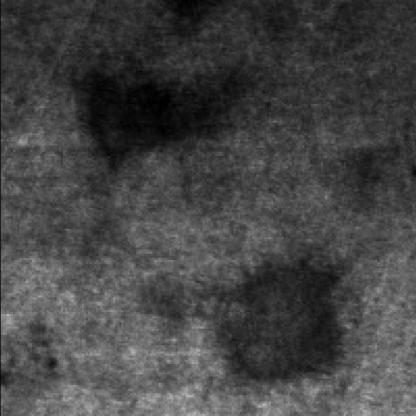patches: (218, 237, 368, 397), (77, 63, 252, 166)
